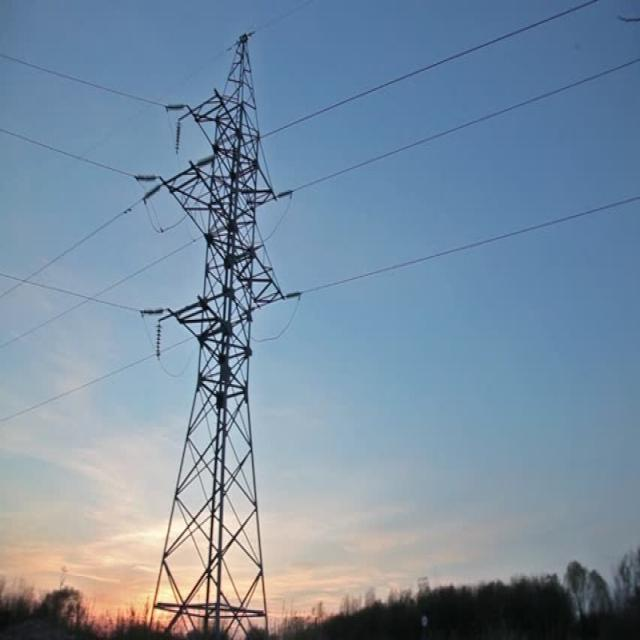non-critical vegetation: (146, 28, 282, 630)
